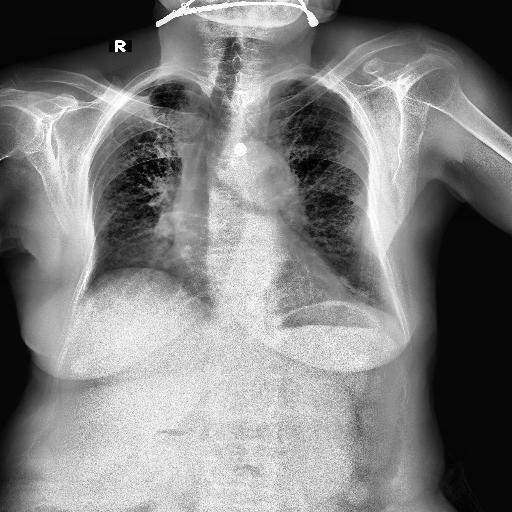0- Aortic enlargement: (226, 136, 302, 214), (220, 144, 303, 209), (226, 139, 302, 208)
11- Pleural thickening: (122, 72, 172, 102), (290, 77, 338, 92)
3- Cardiomegaly: (165, 249, 346, 320), (157, 246, 347, 309), (164, 250, 359, 300)
